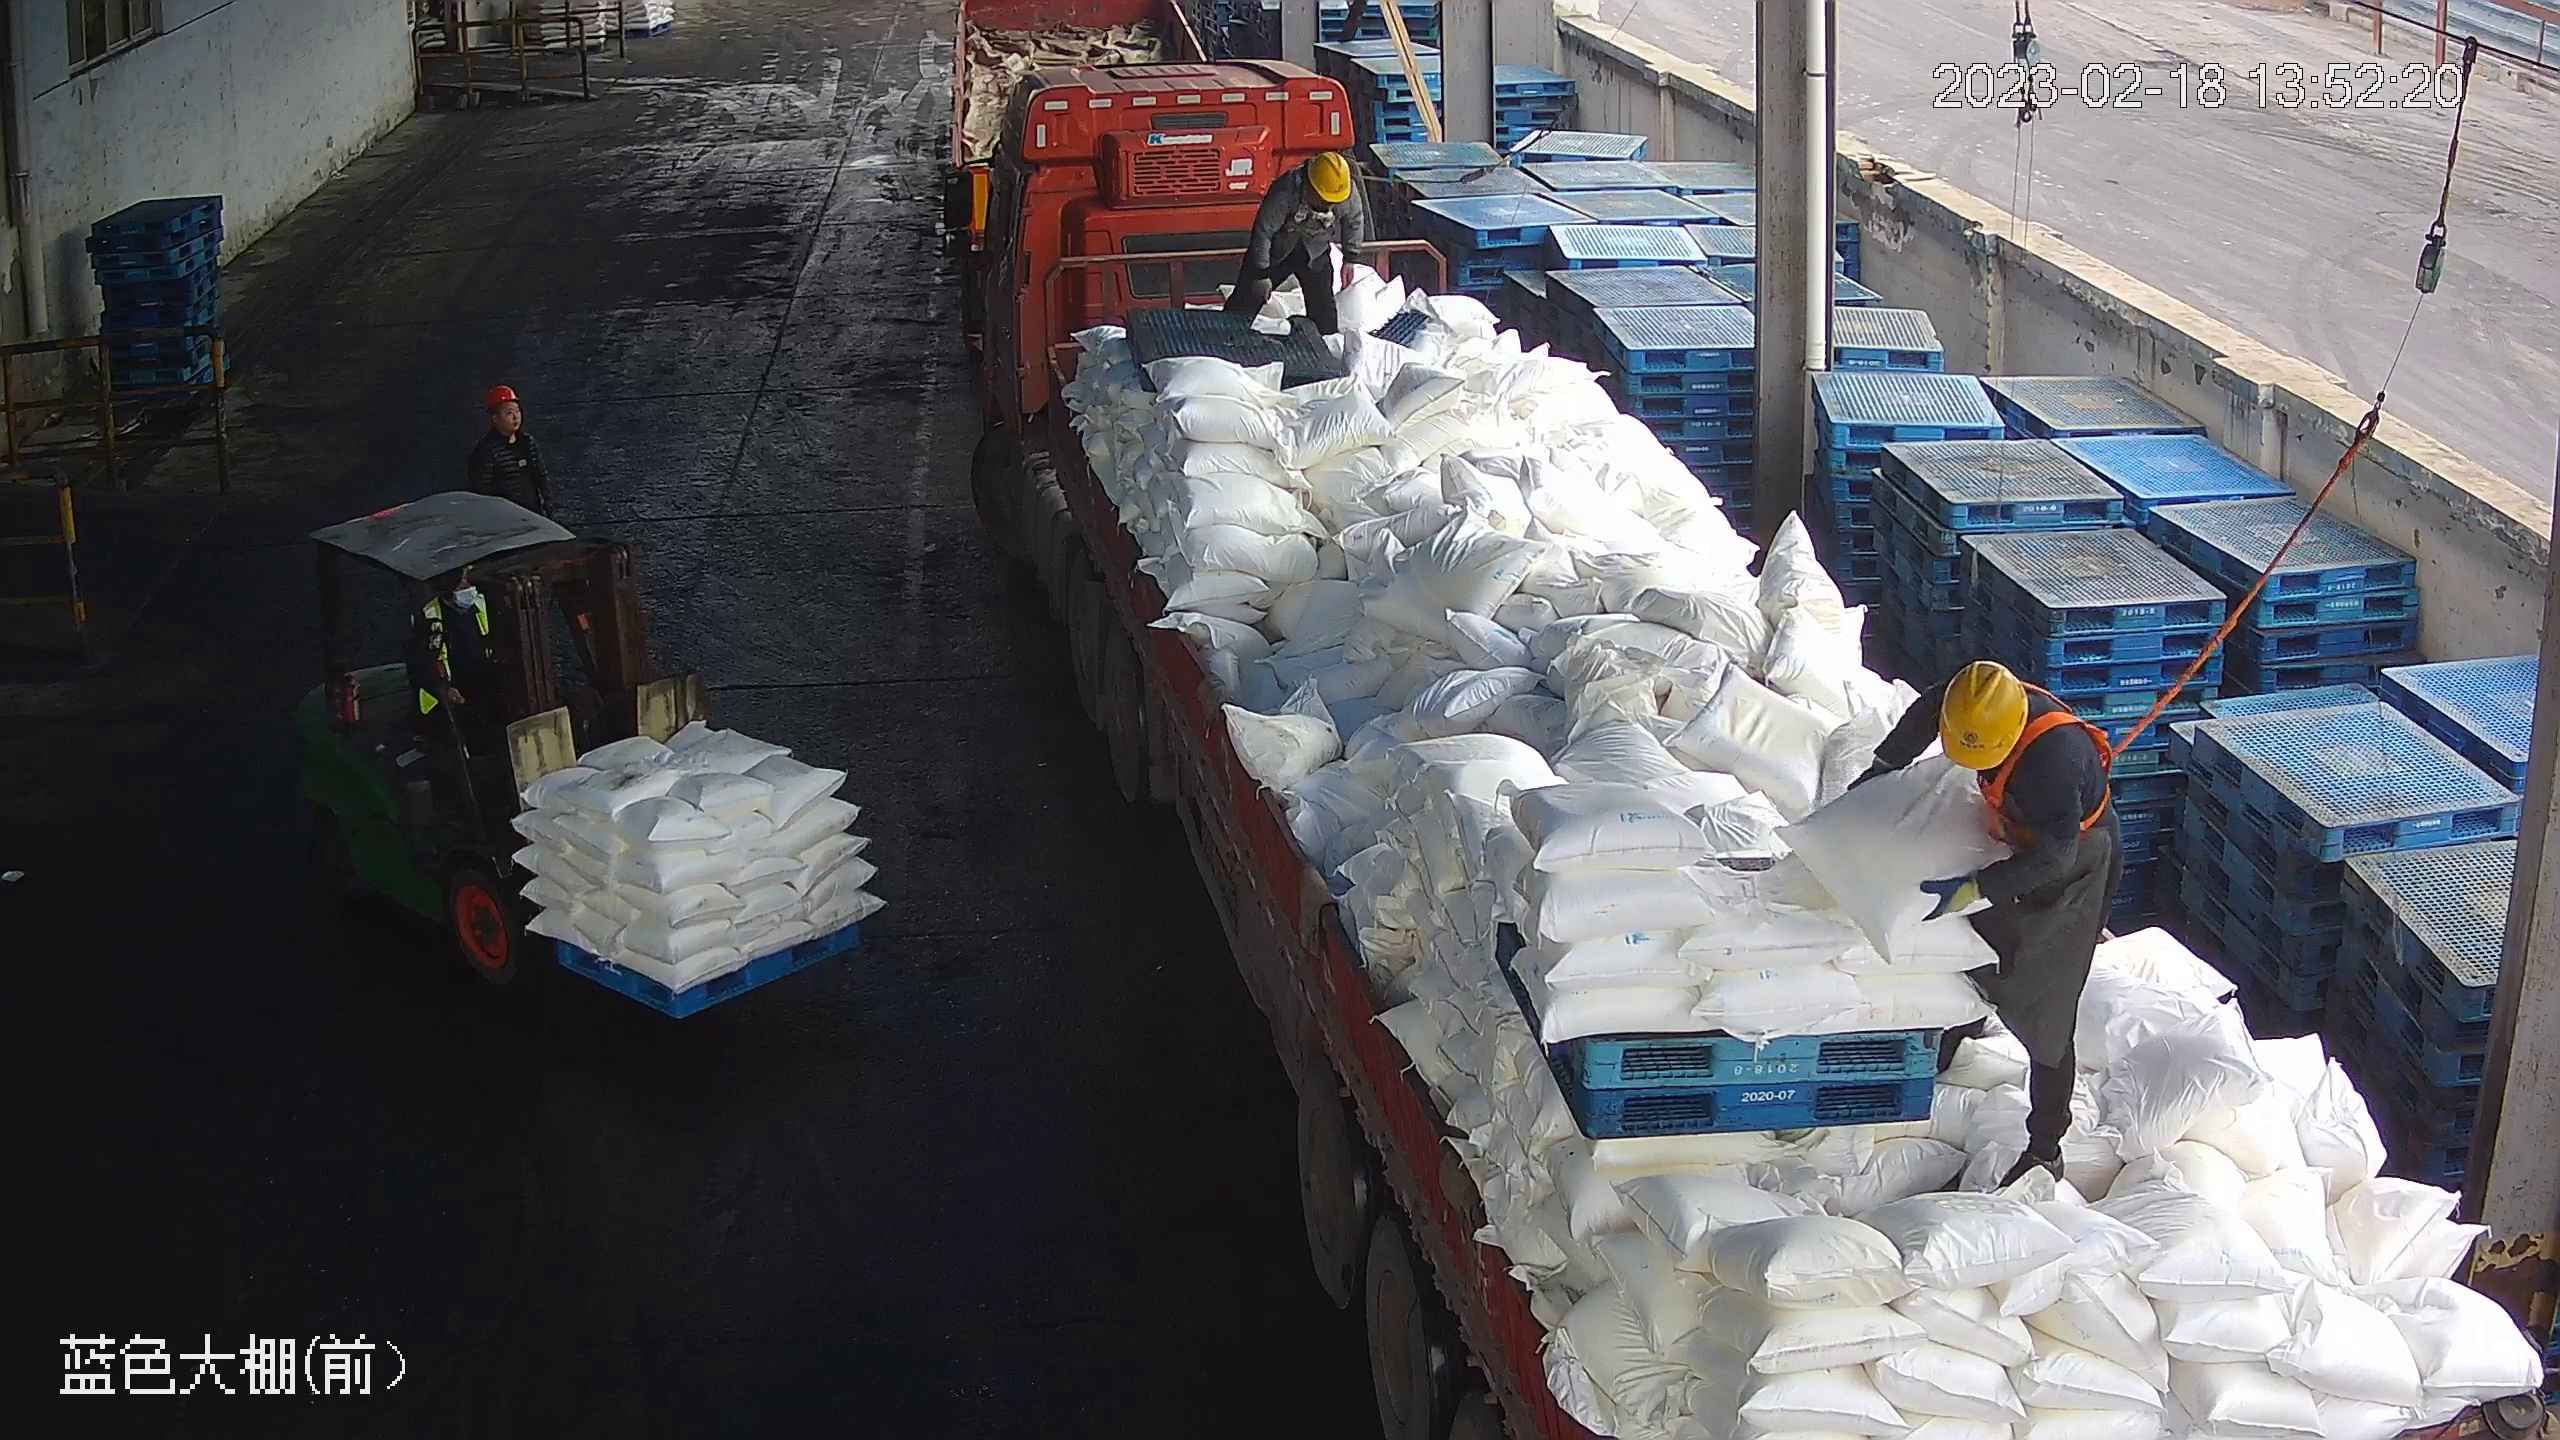belt: (1976, 686, 2120, 852), (1284, 159, 1342, 228)
head: (1905, 664, 2106, 862), (1244, 149, 1359, 239), (473, 387, 549, 473)
helmet: (1935, 656, 2030, 769), (1302, 150, 1352, 208), (483, 384, 520, 406)
people: (1857, 661, 2123, 1188), (1218, 147, 1373, 337)
truck: (944, 50, 2560, 1440)
